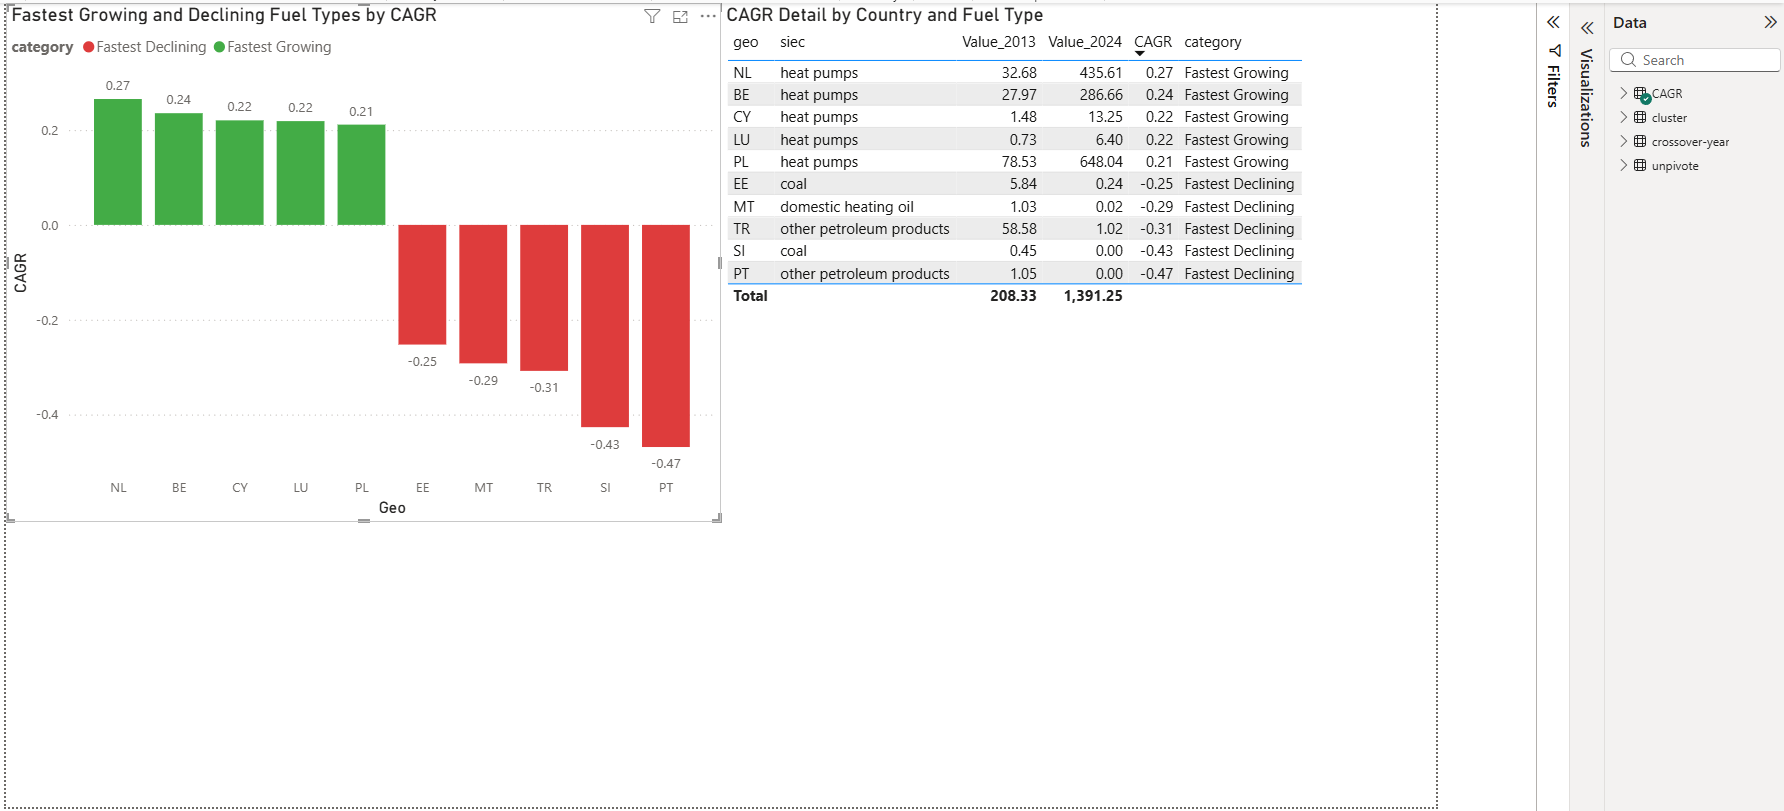

The dashboard page shown, as its layout file describes it:
{"tool":"powerbi","page":{"name":"CAGR Analysis","canvas":[1280,720],"ordinal":4},"visuals":[{"type":"tableEx","title":"CAGR Detail by Country and Fuel Type","fields":{"Values":["CAGR.geo","CAGR.siec","Sum(CAGR.value_2013)","Sum(CAGR.value_2024)","CAGR.CAGR","CAGR.category"]},"box":[640,0,640,341.4],"z":0},{"type":"columnChart","title":"Fastest Growing and Declining Fuel Types by CAGR","fields":{"Category":["CAGR.geo"],"Y":["Sum(CAGR.CAGR)"],"Series":["CAGR.category"]},"box":[0,0,640,464.9],"z":1000}]}

Visuals, with their boxes on the page's 1280x720 design canvas (x1, y1, x2, y2). These are canvas units, not pixel positions in the 1784x811 screenshot, which may show the page scaled, cropped or inside an application window:
"CAGR Detail by Country and Fuel Type" tableEx: 640,0,1280,341
"Fastest Growing and Declining Fuel Types by CAGR" columnChart: 0,0,640,465
